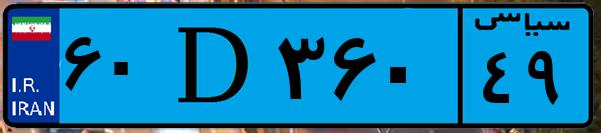0: (385, 28, 445, 110), (110, 28, 158, 98)
3: (270, 28, 330, 110)
4: (475, 38, 525, 113)
6: (330, 28, 385, 110), (57, 26, 110, 100)
9: (525, 38, 570, 115)
D: (158, 12, 270, 120)
